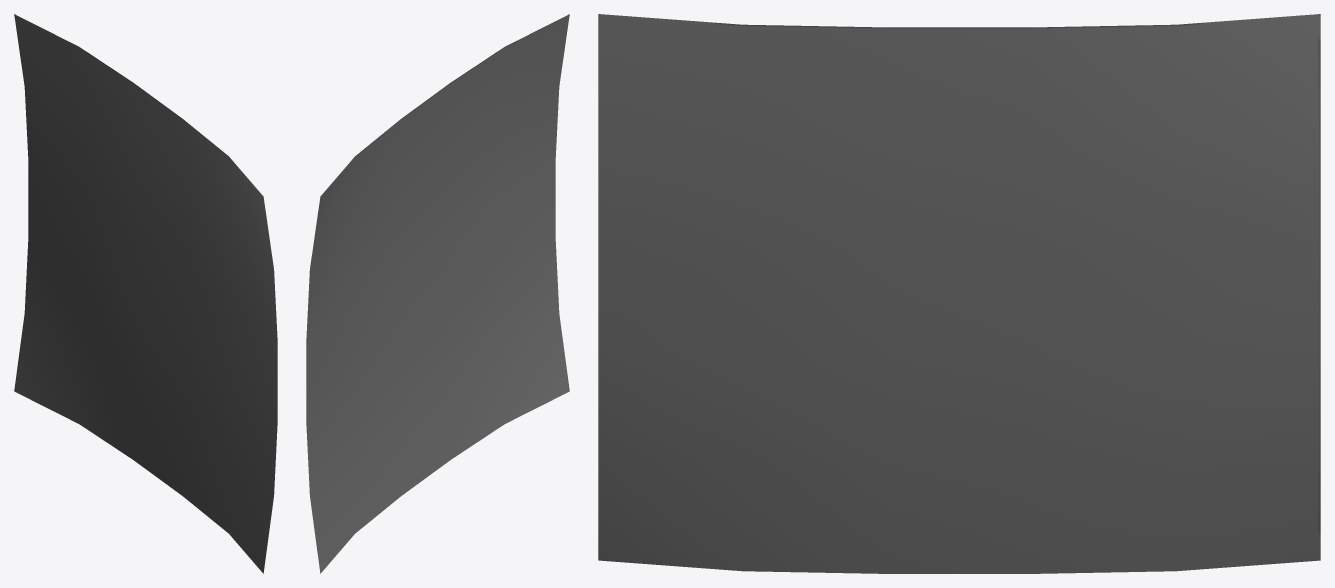
Rendered from ekran.fbx.
3 renders of one model, left to right at view 1: azimuth 30°, elevation 25°; view 2: azimuth 150°, elevation 25°; view 3: azimuth 270°, elevation 25°, orthographic. The views are drawn at different scales.
Visible parts, largest first — view 1: Ekran; view 2: Ekran; view 3: Ekran.
Boxes of the visible parts, bbox=[...] form: Ekran: bbox=[14, 14, 277, 573]; Ekran: bbox=[306, 14, 569, 573]; Ekran: bbox=[598, 14, 1320, 573].
Bounding box in the file's own units: 0.025 × 0.334 × 0.4.
